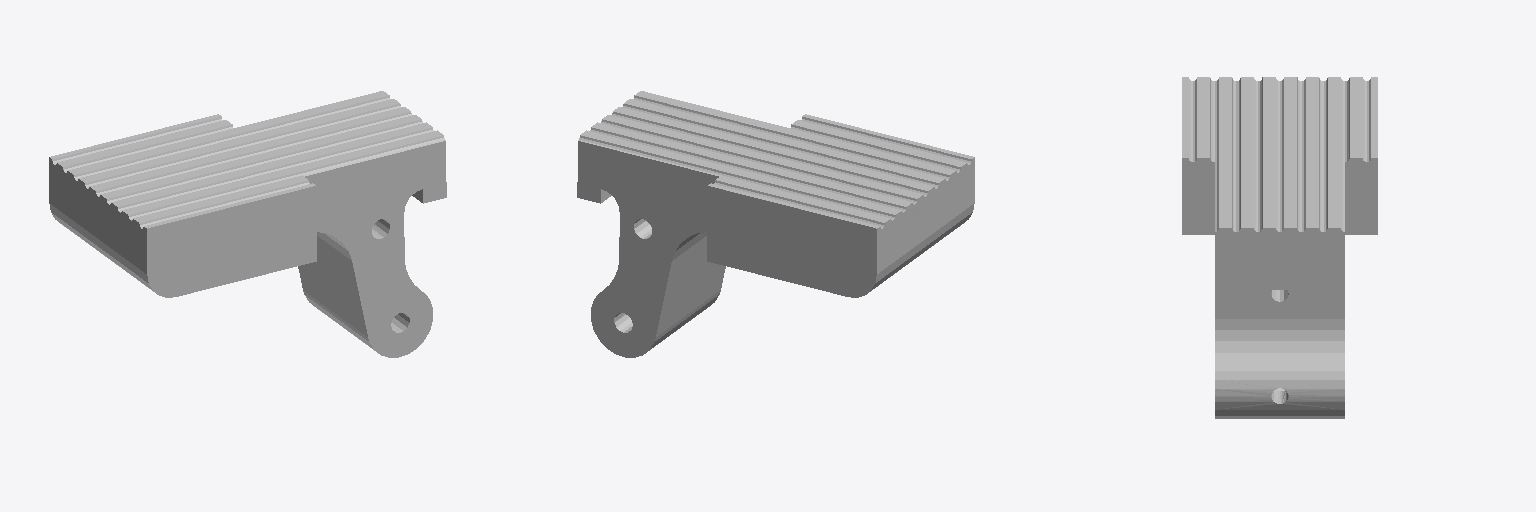
Rendered from gripper_link11.obj.
3 views of the same model, side by side, from view 1: azimuth 30°, elevation 25°; view 2: azimuth 150°, elevation 25°; view 3: azimuth 270°, elevation 25° (orthographic).
Visible parts, largest first — view 1: default; view 2: default; view 3: default.
Boxes of the visible parts, box(x1,y1,x2,y2) form: default: box(49, 91, 446, 357); default: box(577, 91, 974, 357); default: box(1182, 77, 1377, 418).
Size of the model in its own units: 0.0336 by 0.0212 by 0.018.